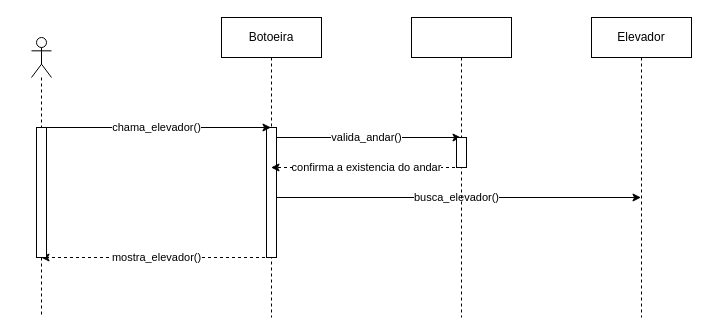
Some shapes in this 709 by 335 pixel diagram are drawn without their labels. The box of each missing label's shape, as (x1, y1, x2, y2) in pixels:
Andar: (410, 16, 512, 318)
Hospede: (30, 36, 52, 318)
